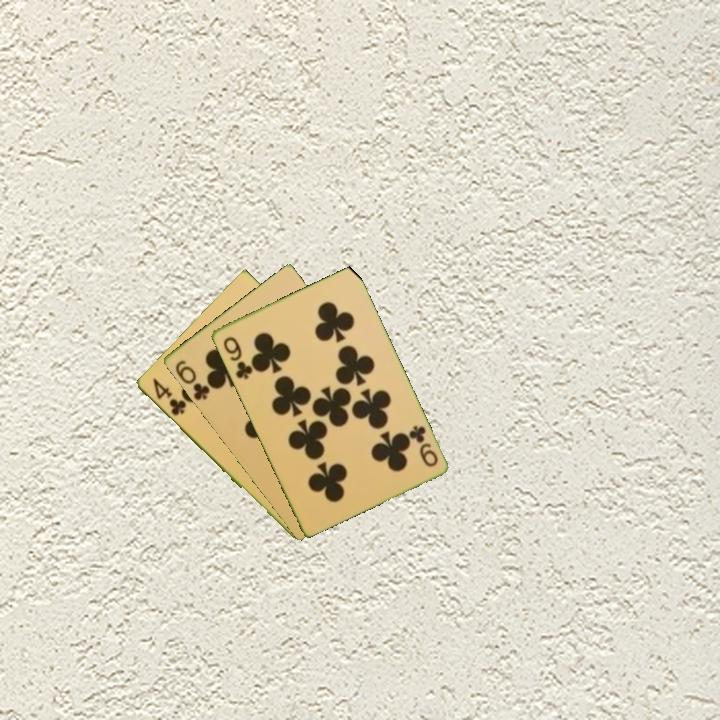4c: (149, 375, 189, 419)
6c: (171, 356, 212, 403)
9c: (219, 333, 255, 382), (405, 421, 441, 470)
